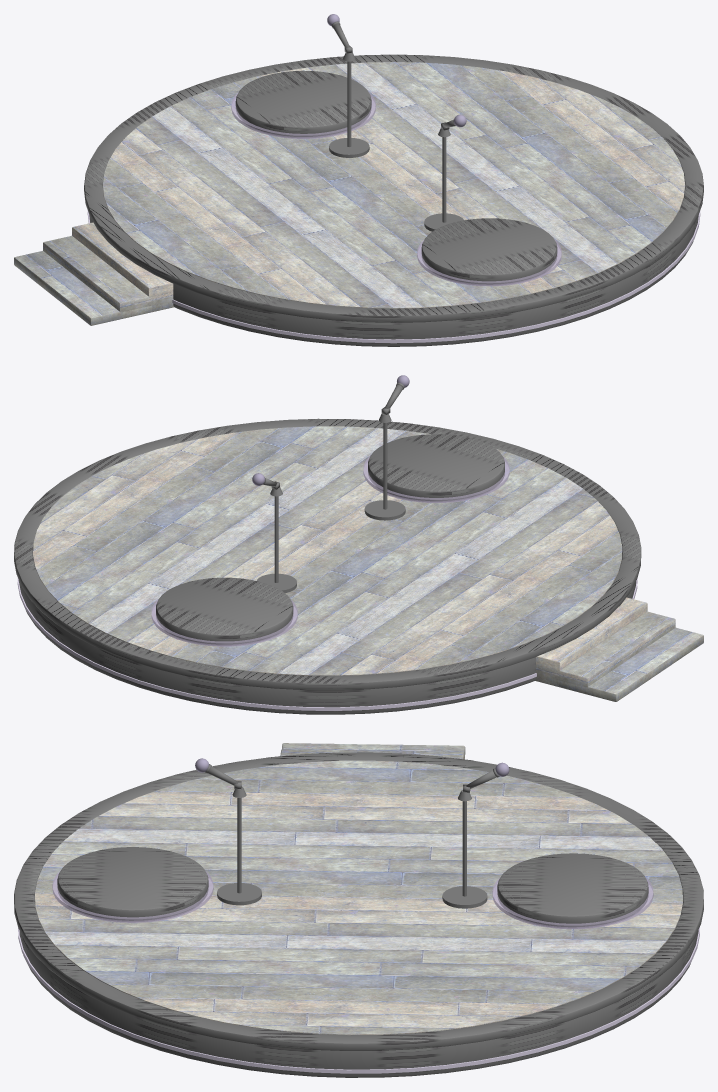
The model's file is stage.obj.
3 views of the same model, one above another, from view 1: azimuth 30°, elevation 25°; view 2: azimuth 150°, elevation 25°; view 3: azimuth 270°, elevation 25° (orthographic). The views are drawn at different scales.
Parts seen in each view (by area): view 1: Stagefloor1, Stagelip1, Stagebase1, Stagesteps1, Spotplatformb1, Spotplatforma1, Stageneon1, Micstanda1, Spotplatformbring1, Spotplatformaring1, Micstandb1; view 2: Stagefloor1, Stagelip1, Stagebase1, Stagesteps1, Spotplatforma1, Spotplatformb1, Stageneon1, Micstandb1, Spotplatformaring1, Spotplatformbring1, Micstanda1; view 3: Stagefloor1, Stagelip1, Stagebase1, Spotplatforma1, Spotplatformb1, Stageneon1, Stagesteps1, Micstanda1, Micstandb1, Spotplatformbring1, Spotplatformaring1.
Part boxes in pixels (x1=…): Stagefloor1: x1=103, y1=62, x2=685, y2=308; Stagelip1: x1=84, y1=54, x2=703, y2=322; Stagebase1: x1=89, y1=215, x2=698, y2=346; Stagesteps1: x1=14, y1=222, x2=173, y2=325; Spotplatformb1: x1=421, y1=218, x2=557, y2=284; Spotplatforma1: x1=235, y1=70, x2=371, y2=137; Stageneon1: x1=87, y1=210, x2=700, y2=343; Micstanda1: x1=329, y1=52, x2=369, y2=157; Spotplatformbring1: x1=417, y1=239, x2=561, y2=286; Spotplatformaring1: x1=231, y1=92, x2=375, y2=138; Micstandb1: x1=424, y1=128, x2=463, y2=231; Stagefloor1: x1=33, y1=426, x2=622, y2=675; Stagelip1: x1=14, y1=418, x2=641, y2=690; Stagebase1: x1=18, y1=580, x2=636, y2=714; Stagesteps1: x1=535, y1=597, x2=703, y2=701; Spotplatforma1: x1=156, y1=577, x2=293, y2=645; Spotplatformb1: x1=368, y1=434, x2=504, y2=501; Stageneon1: x1=17, y1=577, x2=637, y2=710; Micstandb1: x1=364, y1=413, x2=405, y2=520; Spotplatformaring1: x1=151, y1=599, x2=297, y2=646; Spotplatformbring1: x1=363, y1=456, x2=509, y2=502; Micstanda1: x1=256, y1=487, x2=296, y2=593; Stagefloor1: x1=35, y1=760, x2=682, y2=1035; Stagelip1: x1=14, y1=752, x2=703, y2=1050; Stagebase1: x1=19, y1=930, x2=698, y2=1077; Spotplatforma1: x1=497, y1=853, x2=648, y2=927; Spotplatformb1: x1=57, y1=847, x2=208, y2=921; Stageneon1: x1=18, y1=927, x2=699, y2=1073; Stagesteps1: x1=280, y1=743, x2=465, y2=759; Micstanda1: x1=442, y1=790, x2=487, y2=908; Micstandb1: x1=217, y1=786, x2=261, y2=905; Spotplatformbring1: x1=52, y1=870, x2=213, y2=922; Spotplatformaring1: x1=492, y1=877, x2=653, y2=929.
Size of the model in its own units: 25.49 by 6.29 by 22.57.
Materials: 10 (7 with a texture image).
